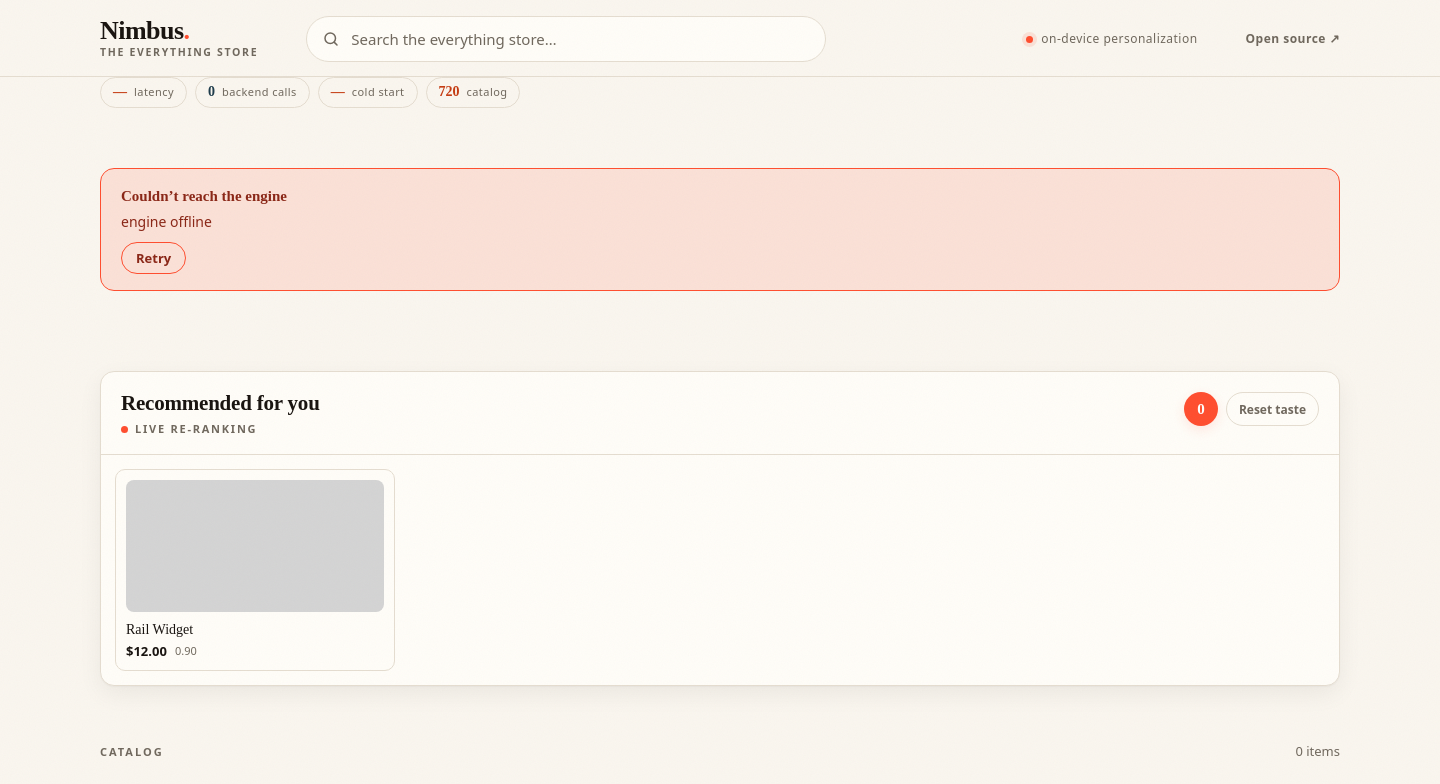
it: Storefront error handling › shows an error banner and recovers when Retry succeeds
Check: the text "Couldn’t reach the engine" is shown, box top-left (121, 188), bottom-right (287, 204)
Check: the text "engine offline" is shown, box top-left (121, 212), bottom-right (212, 231)
Click the button "Retry" at coordinates (154, 258), box top-left (121, 242), bottom-right (186, 274)
(page scrolled)
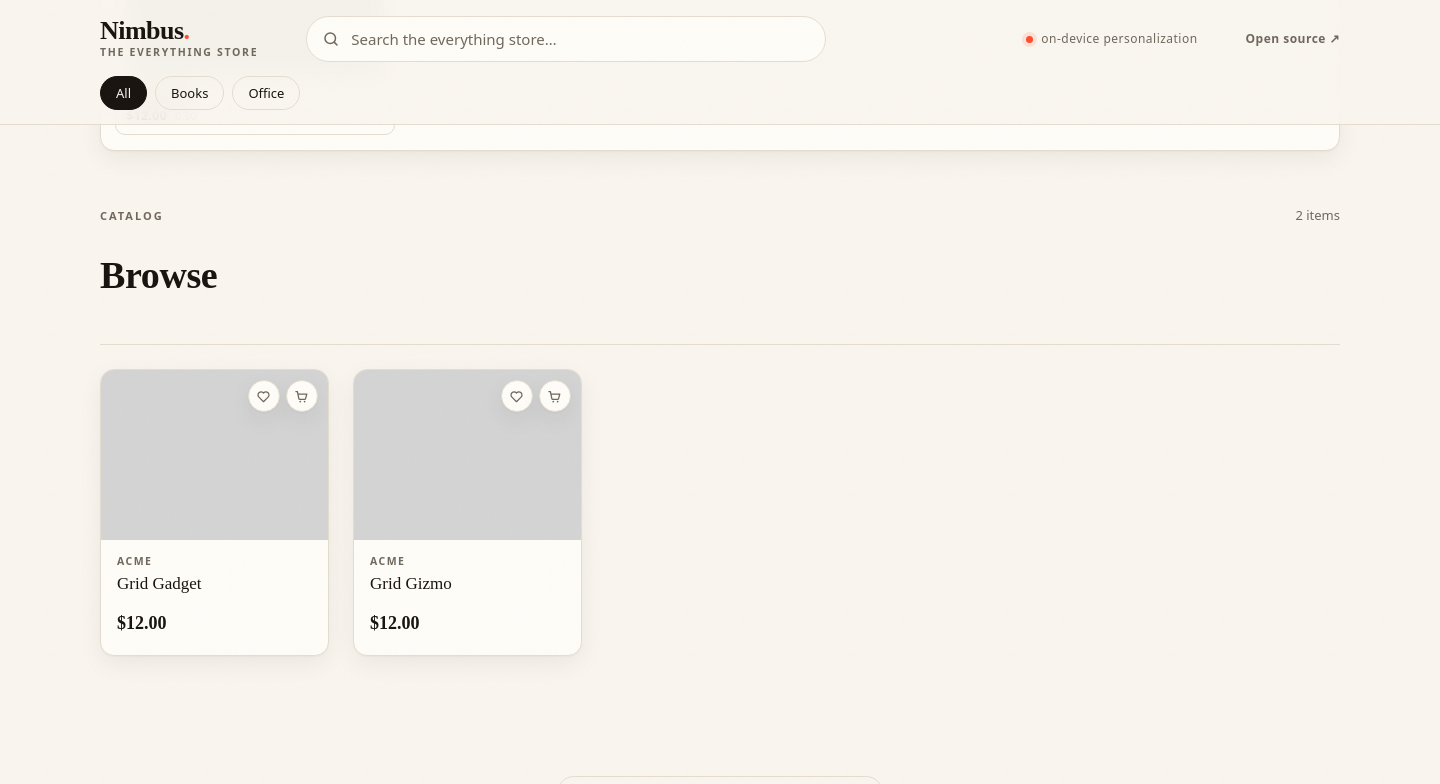
Check: the text "Grid Gadget" is shown, box top-left (117, 574), bottom-right (202, 592)
Check: the text "Couldn’t reach the engine" is gone
